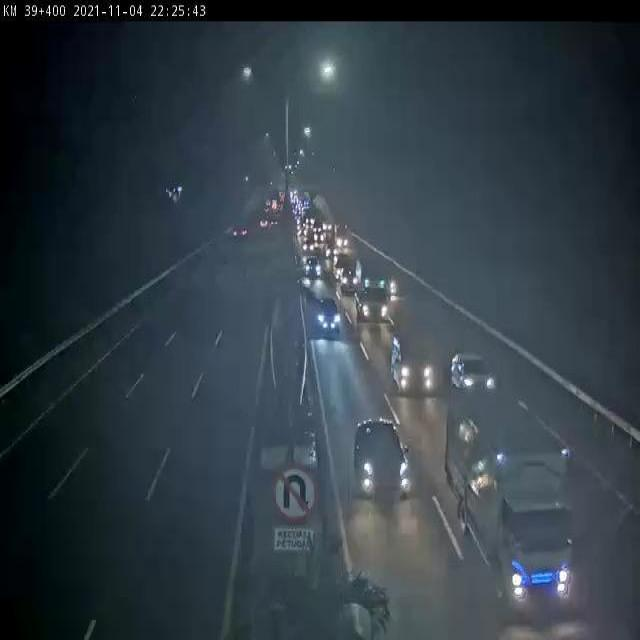car: (355, 419, 407, 501), (390, 336, 438, 392), (451, 352, 495, 395), (314, 296, 343, 337), (337, 258, 361, 298), (302, 254, 324, 282)
truck-m-: (447, 393, 579, 612), (359, 265, 394, 320)
